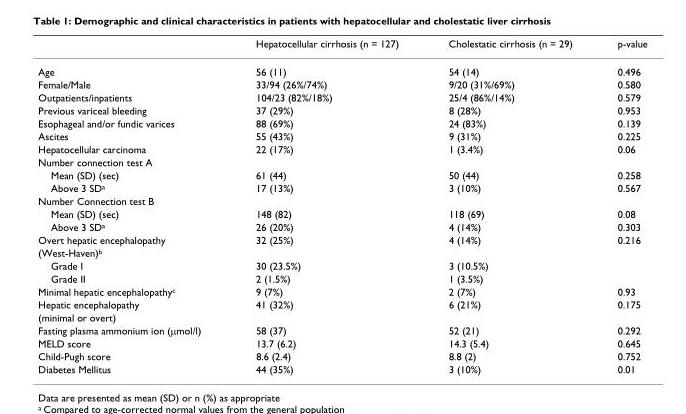table: (37, 37, 646, 374)
table column: (227, 37, 422, 374), (37, 37, 227, 374), (422, 37, 594, 374), (594, 37, 646, 374)
table column header: (37, 37, 646, 57)
table projected row header: (37, 155, 646, 168), (37, 245, 646, 258), (37, 310, 646, 323), (37, 194, 646, 206)
table row: (37, 37, 646, 57), (37, 57, 646, 77), (37, 77, 646, 90), (37, 90, 646, 103), (37, 103, 646, 116), (37, 116, 646, 129), (37, 129, 646, 142), (37, 142, 646, 155), (37, 155, 646, 168), (37, 168, 646, 181), (37, 181, 646, 194), (37, 206, 646, 219), (37, 219, 646, 232), (37, 232, 646, 245), (37, 245, 646, 258), (37, 258, 646, 271), (37, 271, 646, 284), (37, 284, 646, 297), (37, 297, 646, 310), (37, 310, 646, 323), (37, 323, 646, 336), (37, 336, 646, 349), (37, 349, 646, 362), (37, 194, 646, 206), (37, 362, 646, 374)
